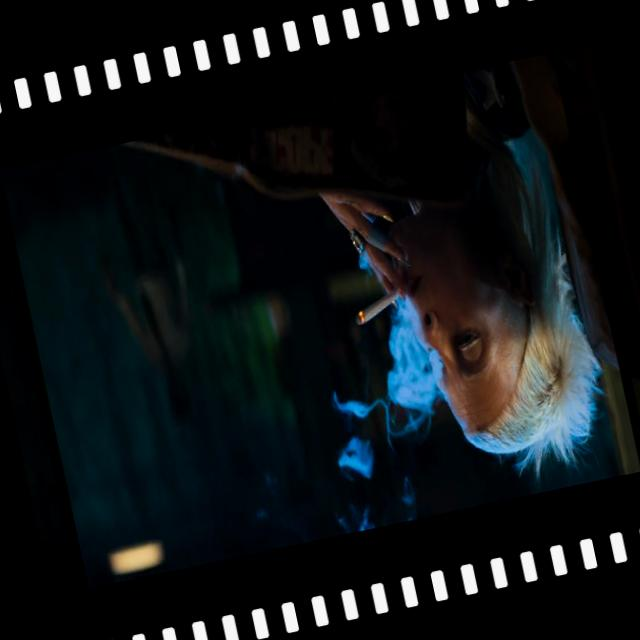cigarette: (354, 290, 401, 326)
